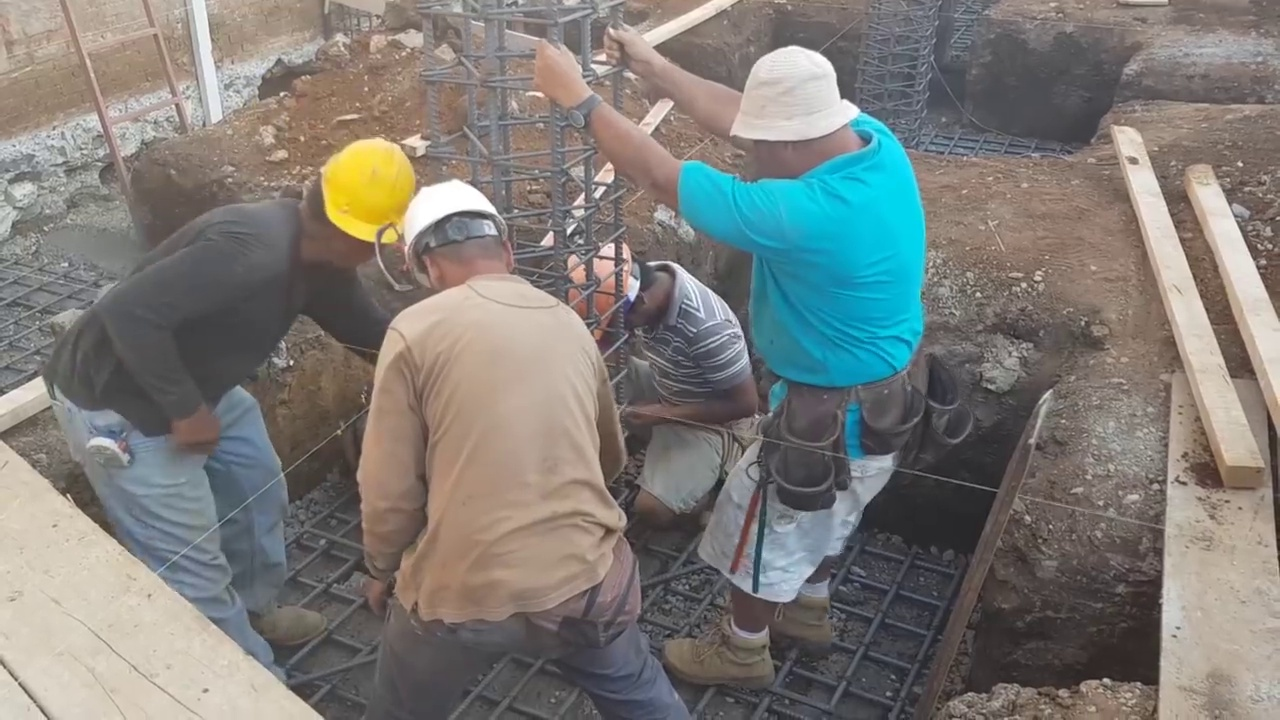helmet: (322, 137, 409, 247), (407, 172, 505, 262), (571, 235, 630, 335)
helmet-off: (724, 44, 870, 184)
helmet-on: (293, 134, 412, 278), (396, 171, 516, 291), (563, 237, 678, 343)
person: (541, 18, 929, 676), (69, 123, 421, 678), (338, 157, 648, 706), (564, 233, 763, 521)
